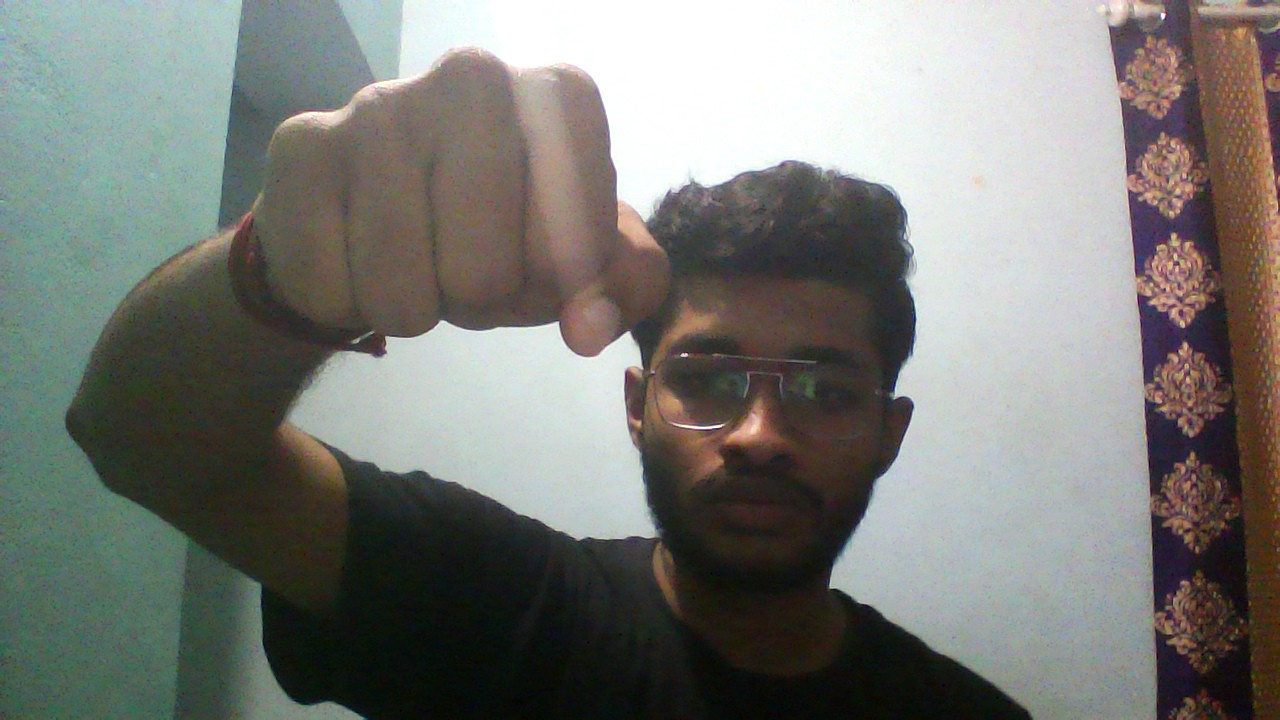Yes: (174, 18, 727, 449)
